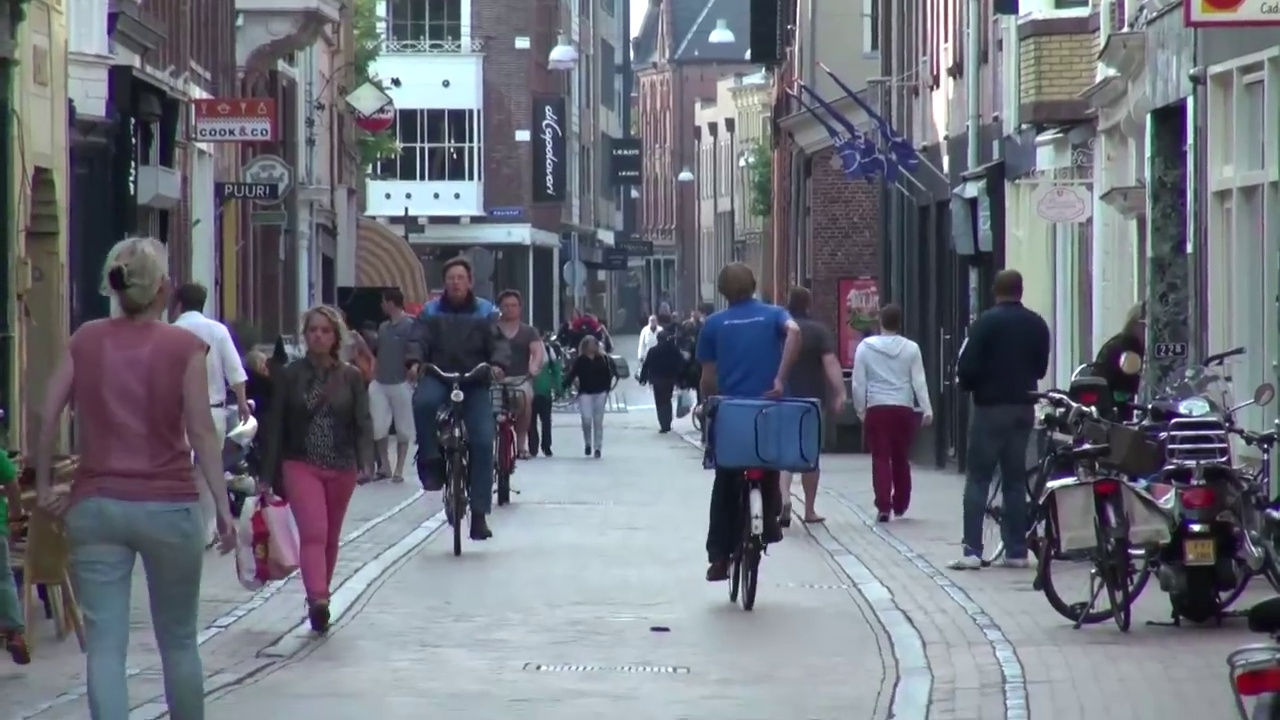cyclist_back: (692, 257, 819, 618)
cyclist_front: (408, 258, 507, 562), (481, 283, 535, 519)
